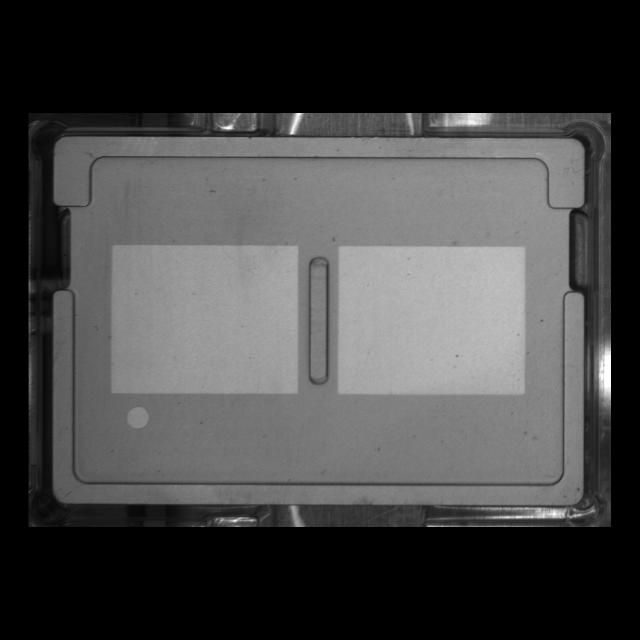door: (39, 124, 598, 223)
point: (123, 402, 155, 432)
